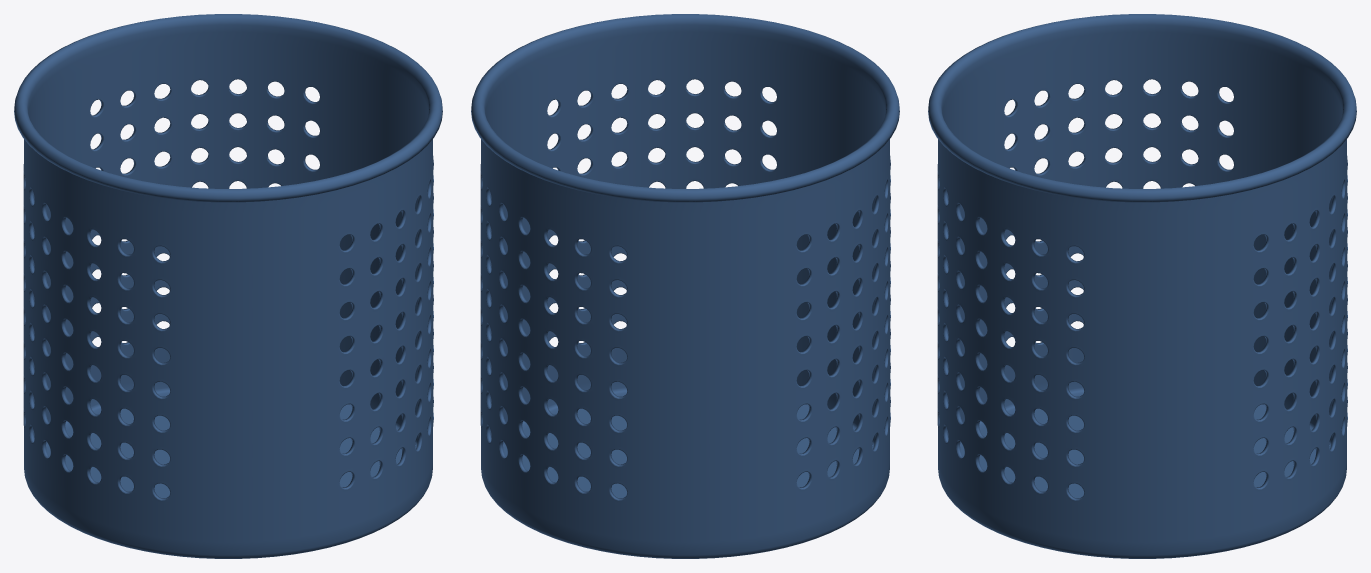
The model's file is bin.glb.
3 renders of one model, left to right at view 1: azimuth 30°, elevation 25°; view 2: azimuth 150°, elevation 25°; view 3: azimuth 270°, elevation 25°, orthographic.
Visible parts, largest first — view 1: bin; view 2: bin; view 3: bin.
Part boxes in pixels (x1,y1,x2,y2): bin: (14, 14, 442, 558); bin: (471, 14, 899, 558); bin: (928, 14, 1356, 558).
Bounding box in the file's own units: 1.13 × 1.09 × 1.13.
